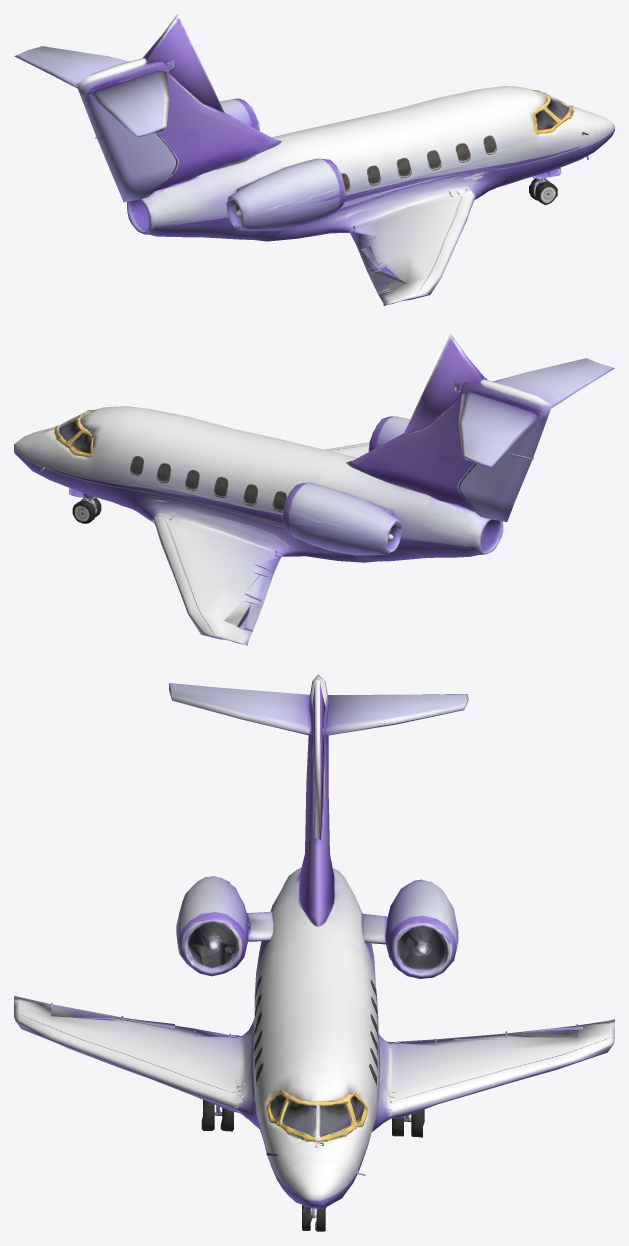
Rendered from r33-jet.glb.
3 renders of one model, top to bottom at view 1: azimuth 30°, elevation 25°; view 2: azimuth 150°, elevation 25°; view 3: azimuth 270°, elevation 25°, orthographic. The views are drawn at different scales.
Visible parts, largest first — view 1: tripo_node_14f4f29f-a831-49a7-8136-e33029cbab2f; view 2: tripo_node_14f4f29f-a831-49a7-8136-e33029cbab2f; view 3: tripo_node_14f4f29f-a831-49a7-8136-e33029cbab2f.
Boxes of the visible parts, <box> form: tripo_node_14f4f29f-a831-49a7-8136-e33029cbab2f: <box>14,14,614,305</box>; tripo_node_14f4f29f-a831-49a7-8136-e33029cbab2f: <box>14,334,614,645</box>; tripo_node_14f4f29f-a831-49a7-8136-e33029cbab2f: <box>14,674,614,1231</box>.
Bounding box in the file's own units: 0.998 × 0.4941 × 0.7949.
Materials: 1 (1 with a texture image).
